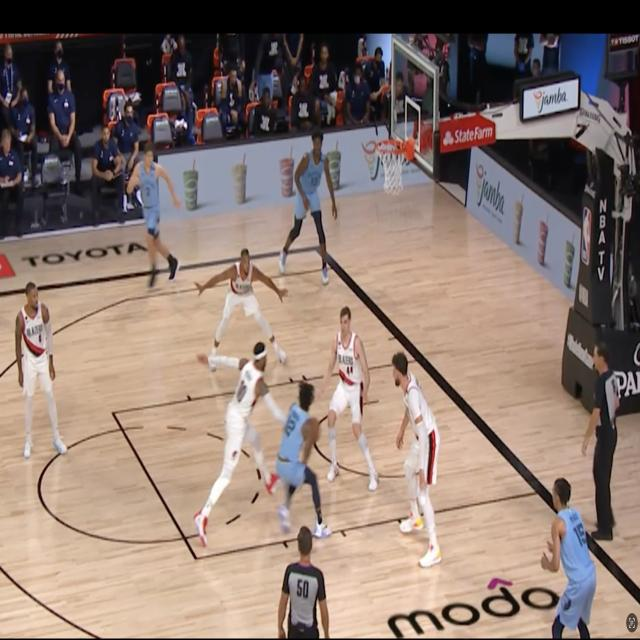no foul: (202, 327, 276, 558), (270, 359, 327, 556)
